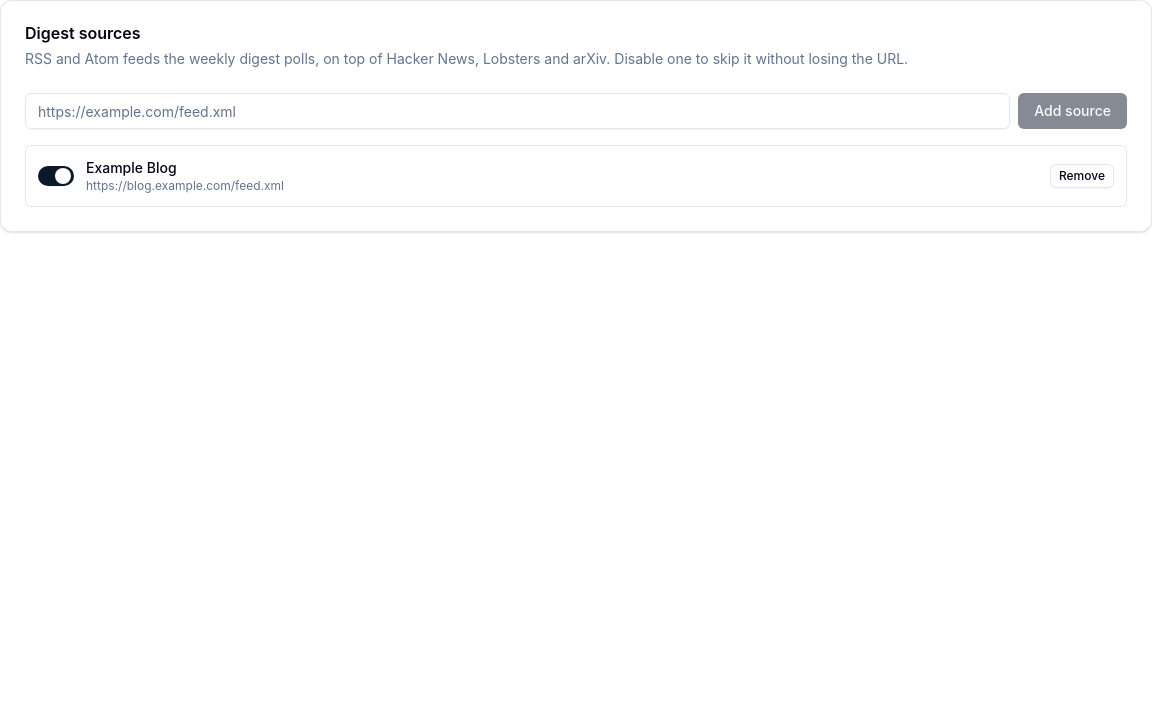
Test case: DigestSourcesCard › deletes the source when the confirmation is confirmed
Click the button with aria-label "Remove source: Example Blog": {"x": 1082, "y": 176} [1050,164,1114,188]
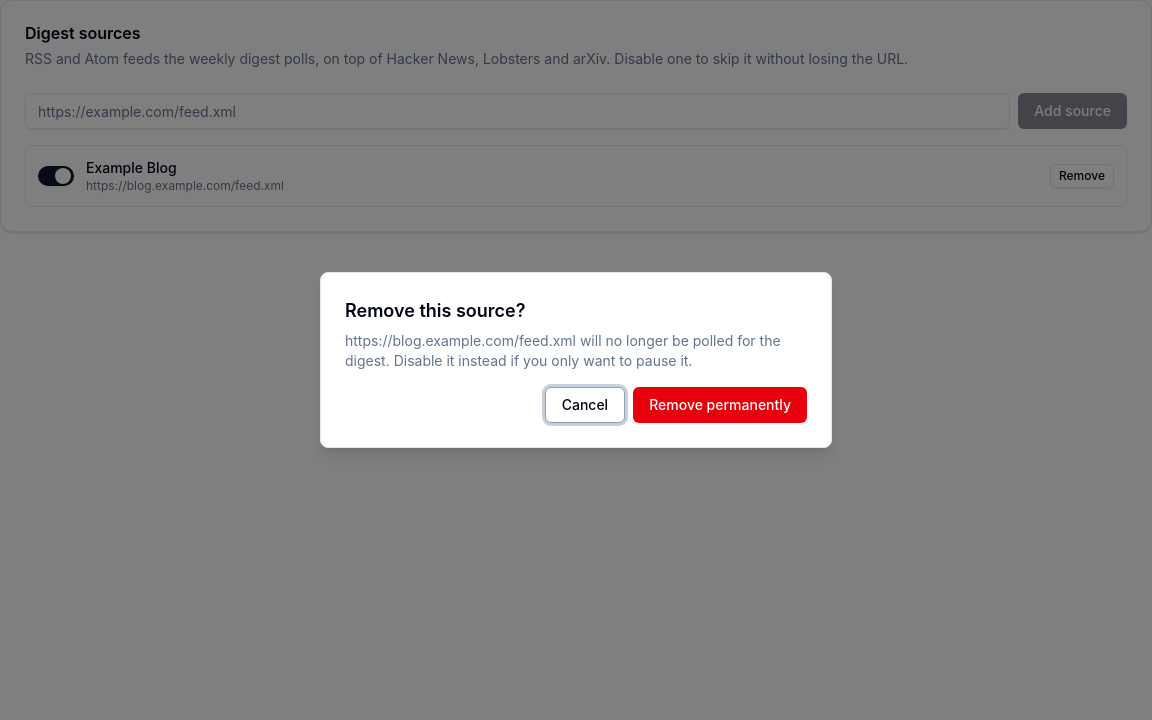
Expected: the dialog is shown, [320,272,832,448]
Click the button "Remove permanently": {"x": 720, "y": 405} [633,387,807,423]
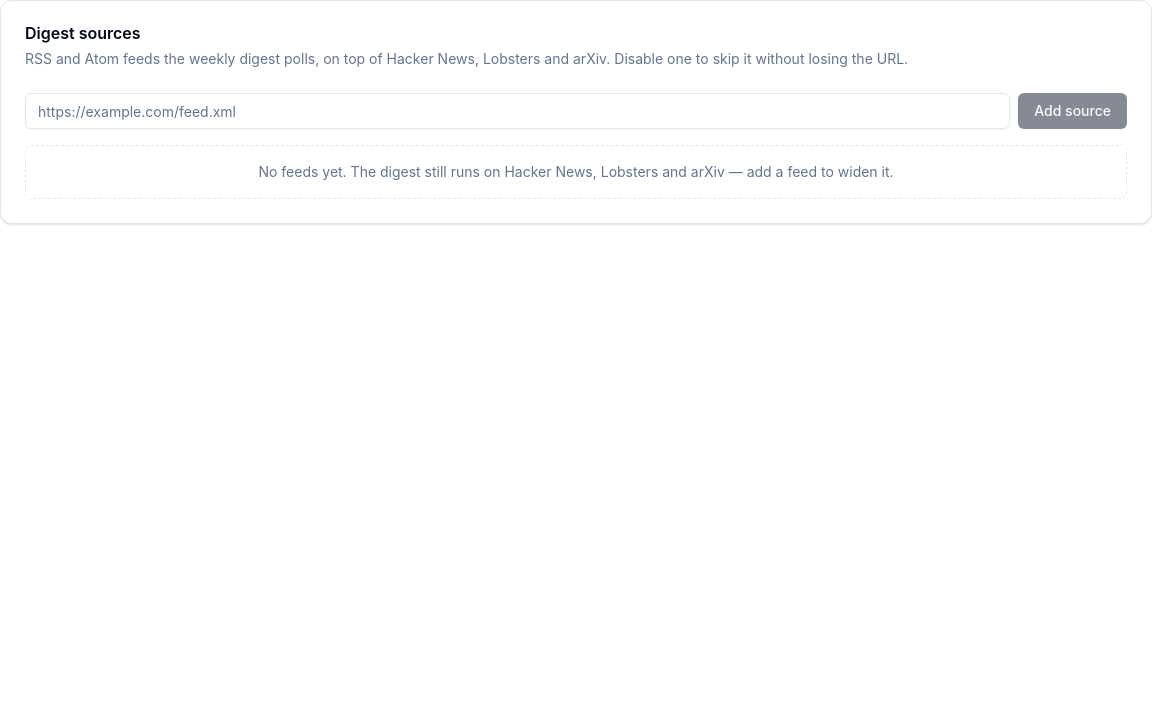
Expected: the dialog is gone
Expected: the text "No feeds yet" is shown, [258,163,894,180]
